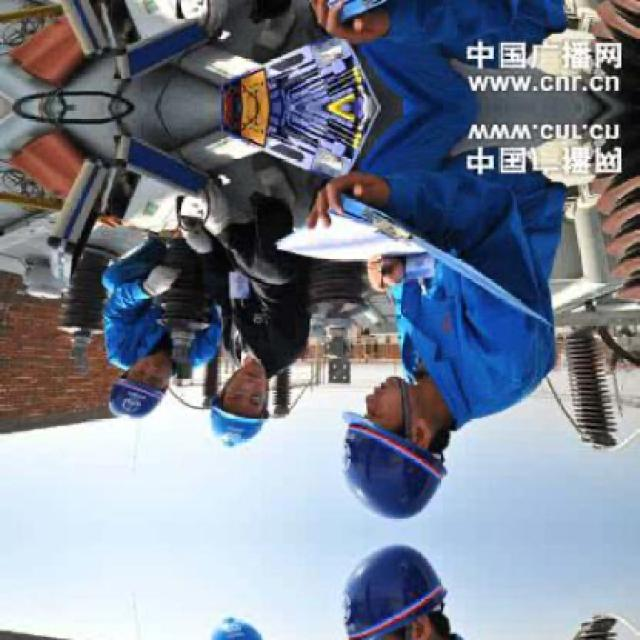con casco: (302, 389, 482, 511), (189, 348, 318, 449), (93, 329, 207, 430)
